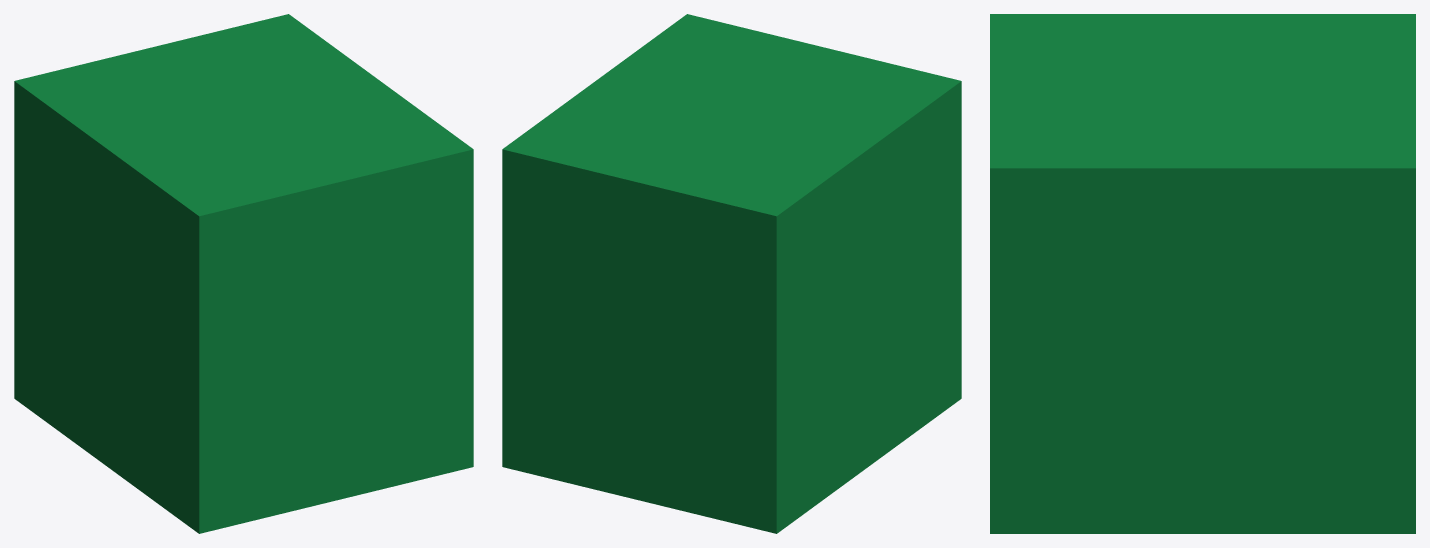
3 views of the same model, side by side, from view 1: azimuth 30°, elevation 25°; view 2: azimuth 150°, elevation 25°; view 3: azimuth 270°, elevation 25° (orthographic). The views are drawn at different scales.
Size of the model in its own units: 1.67 by 1.85 by 1.95.
